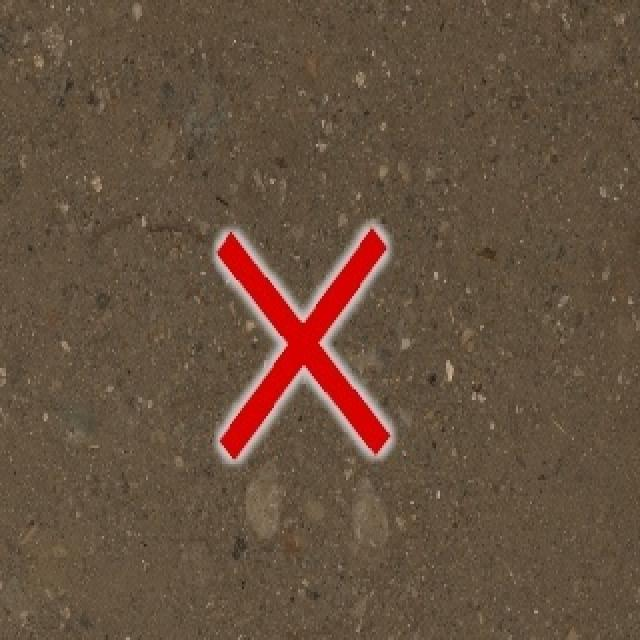x_marker: (217, 228, 389, 457)
